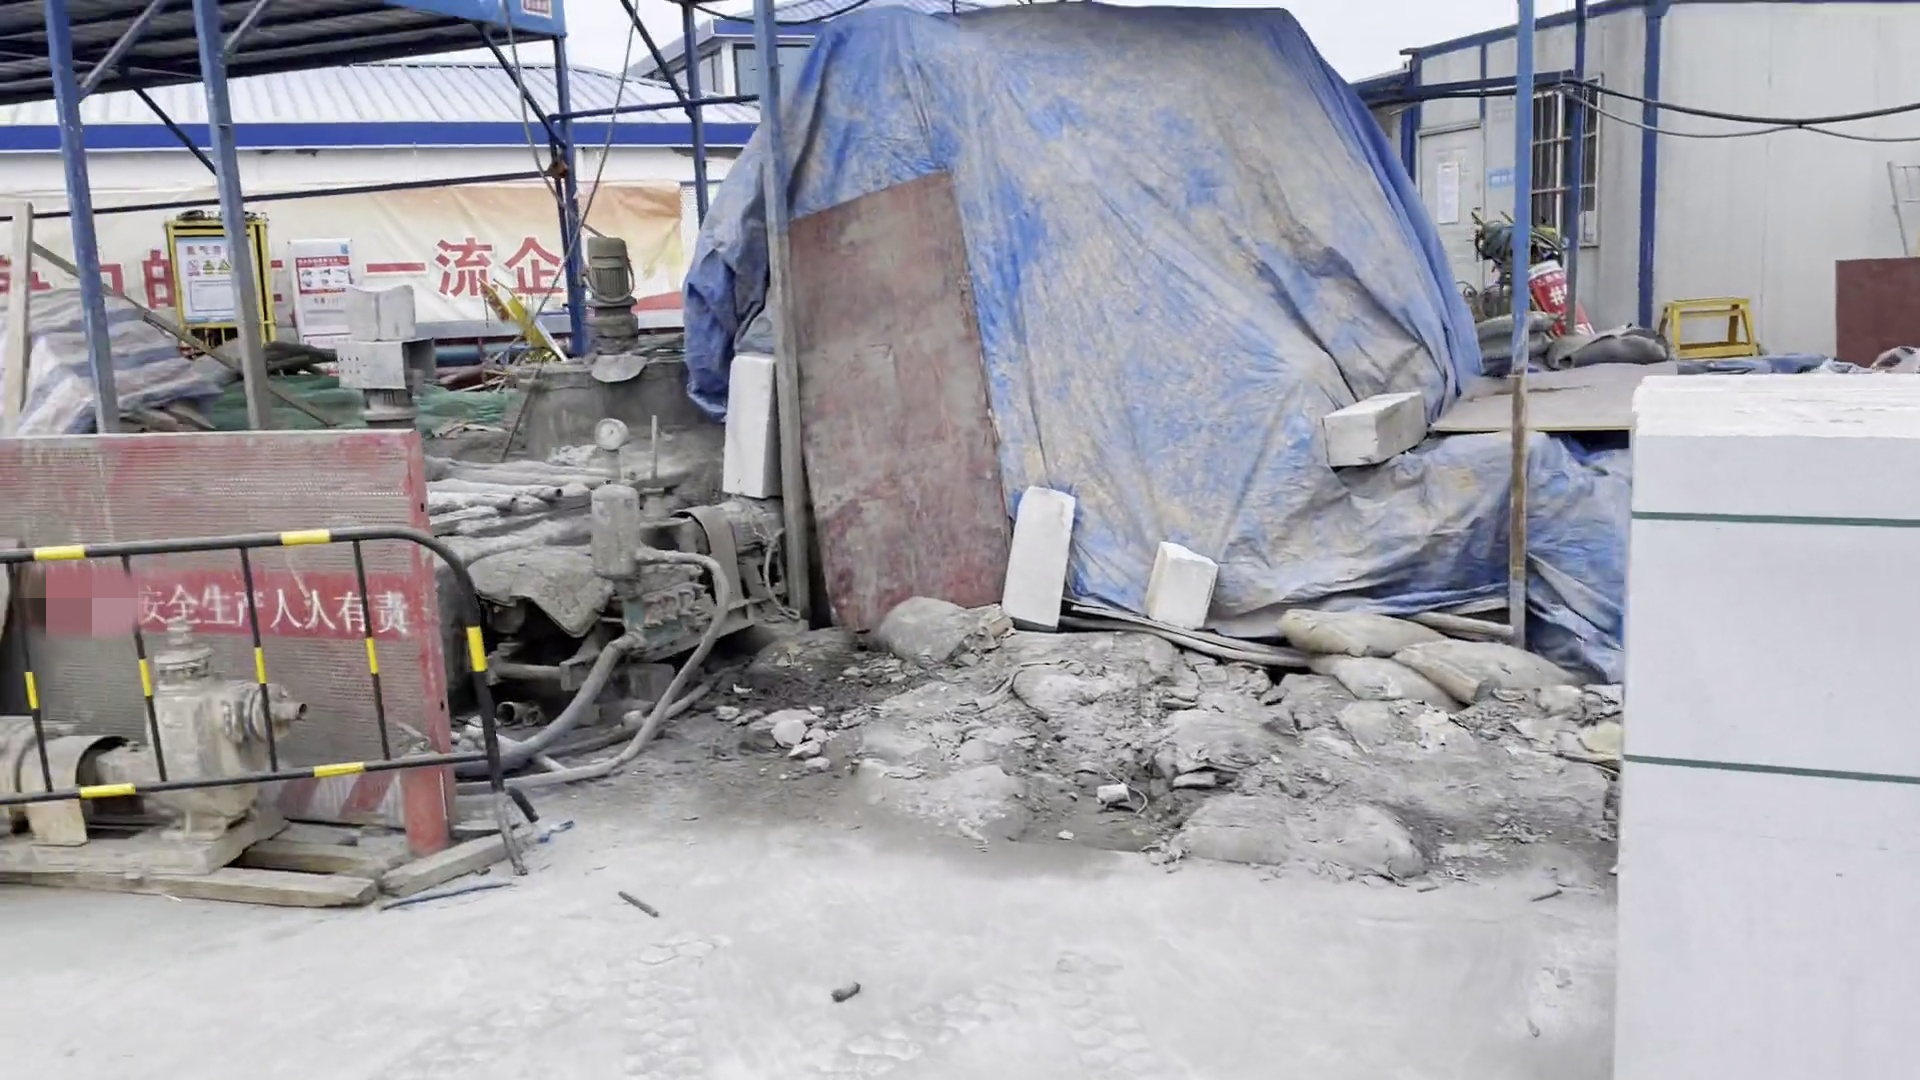brick: (1592, 371, 1920, 1077)
slogan: (116, 579, 413, 632)
